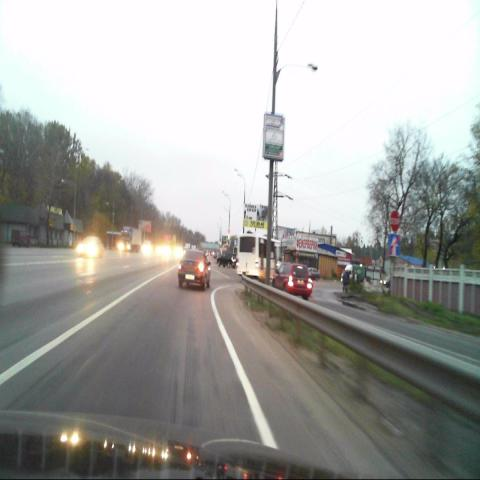5_6: (388, 234, 400, 256)
